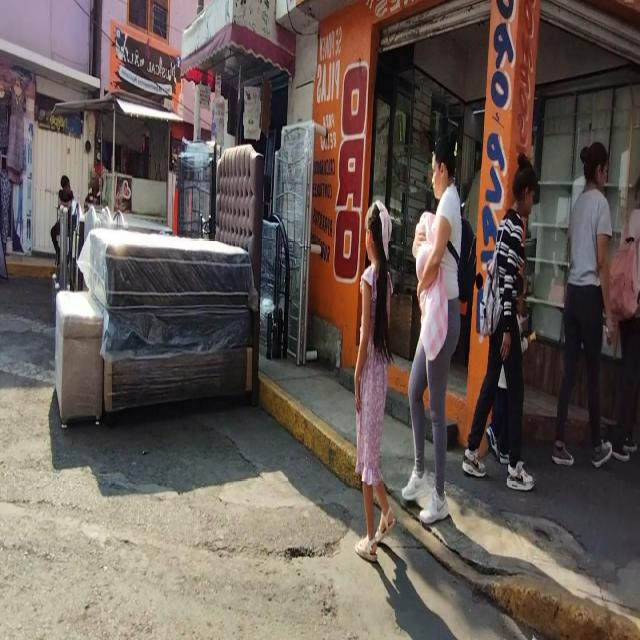adult: (461, 148, 538, 487), (400, 126, 461, 527), (550, 140, 611, 467), (353, 199, 392, 568)
